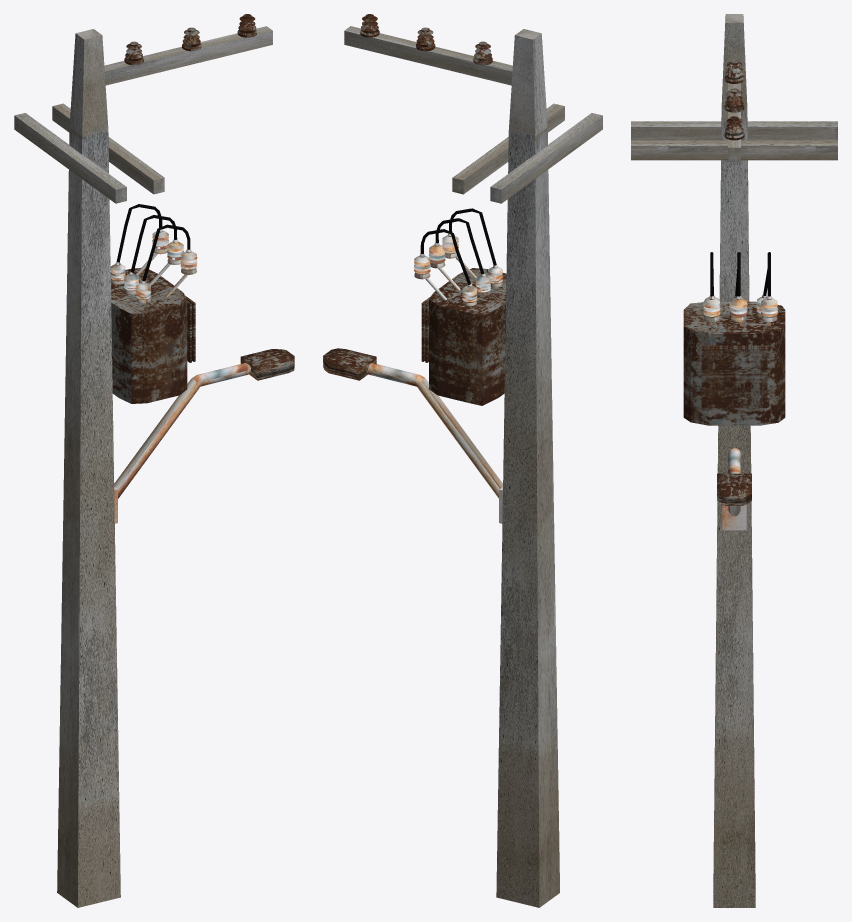
Rendered from poste.glb.
The picture shows the model from 3 angles, left to right: view 1: azimuth 30°, elevation 25°; view 2: azimuth 150°, elevation 25°; view 3: azimuth 270°, elevation 25°; orthographic projection. The views are drawn at different scales.
Visible parts, largest first — view 1: Cubo, Cubo.001, Cubo.002, Cubo.004, Cilindro, Círculo.001, Cubo.003, Cubo.006, Círculo.002, Círculo; view 2: Cubo, Cubo.001, Cubo.002, Cubo.004, Cilindro, Círculo.001, Cubo.003, Cubo.006, Círculo.002, Círculo; view 3: Cubo, Cubo.001, Plano, Cubo.003, Cubo.004, Círculo.001, Círculo.002, Cubo.006, Cubo.005, Cubo.002, Cilindro.
Boxes of the visible parts, left/top/right/bottom form: Cubo: left=57, top=29, right=120, bottom=907; Cubo.001: left=111, top=268, right=187, bottom=403; Cubo.002: left=104, top=26, right=272, bottom=85; Cubo.004: left=14, top=113, right=126, bottom=203; Cilindro: left=114, top=363, right=250, bottom=498; Círculo.001: left=116, top=204, right=197, bottom=281; Cubo.003: left=52, top=103, right=164, bottom=194; Cubo.006: left=240, top=349, right=294, bottom=380; Círculo.002: left=124, top=14, right=256, bottom=65; Círculo: left=110, top=262, right=151, bottom=303; Cubo: left=496, top=29, right=559, bottom=907; Cubo.001: left=429, top=268, right=506, bottom=405; Cubo.002: left=344, top=26, right=512, bottom=85; Cubo.004: left=490, top=113, right=602, bottom=203; Cilindro: left=366, top=363, right=502, bottom=498; Círculo.001: left=414, top=208, right=496, bottom=284; Cubo.003: left=452, top=103, right=564, bottom=194; Cubo.006: left=323, top=348, right=376, bottom=380; Círculo.002: left=360, top=14, right=492, bottom=65; Círculo: left=462, top=265, right=502, bottom=306; Cubo: left=713, top=14, right=755, bottom=907; Cubo.001: left=683, top=301, right=785, bottom=425; Plano: left=701, top=345, right=767, bottom=408; Cubo.003: left=631, top=140, right=837, bottom=160; Cubo.004: left=631, top=121, right=837, bottom=140; Círculo.001: left=703, top=252, right=777, bottom=321; Círculo.002: left=724, top=59, right=744, bottom=140; Cubo.006: left=717, top=473, right=751, bottom=505; Cubo.005: left=722, top=504, right=746, bottom=530; Cubo.002: left=728, top=67, right=740, bottom=161; Cilindro: left=728, top=448, right=740, bottom=516.
Size of the model in its own units: 5.23 by 19.12 by 4.08.
Materials: 15 (13 with a texture image).
